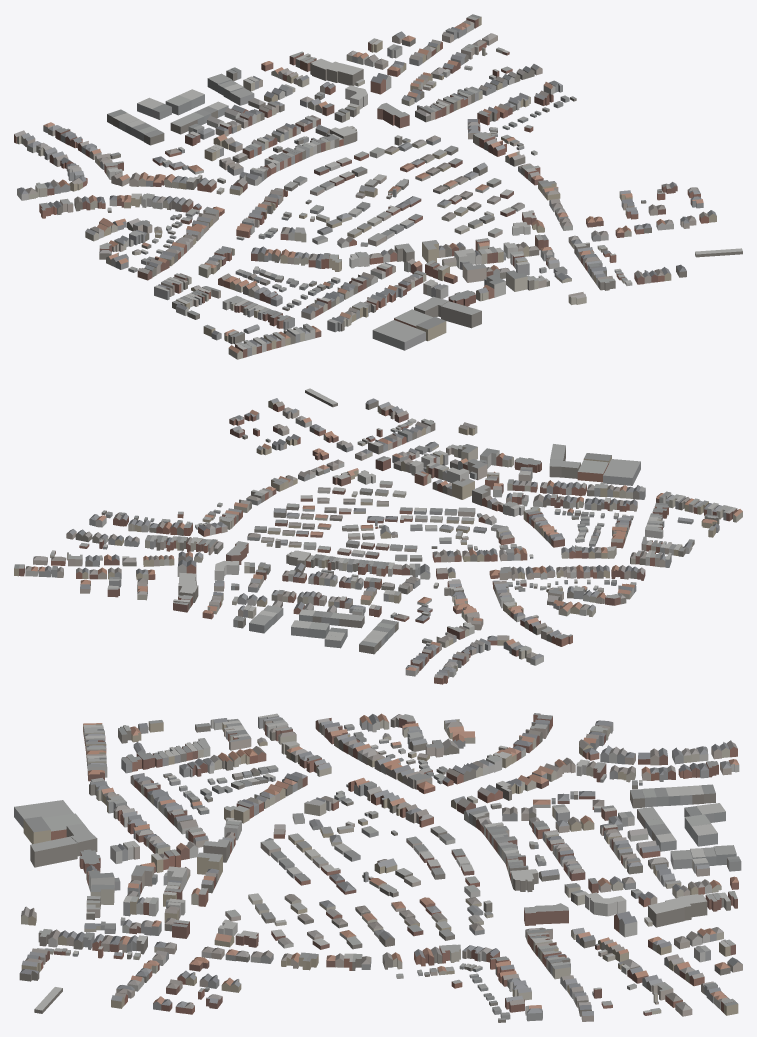
3 views of the same model, one above another, from view 1: azimuth 30°, elevation 25°; view 2: azimuth 150°, elevation 25°; view 3: azimuth 270°, elevation 25° (orthographic). The views are drawn at different scales.
Parts seen in each view (by area): view 1: way/1006902013, way/402792397, way/1006902017; view 2: way/1006902013, way/1006902014, way/1006902016; view 3: way/402792397, way/1006902017, way/669402895, way/1006902013, way/669391154, way/1006902016, way/1006902015, way/1006902014, way/402792401, way/1574832191.
Part boxes in pixels (bbox=[...]): way/1006902013: bbox=[372, 320, 425, 350]; way/402792397: bbox=[310, 58, 363, 85]; way/1006902017: bbox=[441, 301, 481, 328]; way/1006902013: bbox=[603, 459, 640, 485]; way/1006902014: bbox=[577, 460, 608, 482]; way/1006902016: bbox=[549, 459, 580, 478]; way/402792397: bbox=[648, 894, 707, 927]; way/1006902017: bbox=[30, 836, 77, 867]; way/669402895: bbox=[524, 903, 568, 925]; way/1006902013: bbox=[14, 800, 73, 828]; way/669391154: bbox=[585, 892, 626, 916]; way/1006902016: bbox=[66, 823, 97, 856]; way/1006902015: bbox=[23, 816, 50, 844]; way/1006902014: bbox=[42, 813, 83, 840]; way/402792401: bbox=[511, 869, 538, 892]; way/1574832191: bbox=[691, 824, 717, 846].
Size of the model in its own units: 507 by 29.62 by 514.
